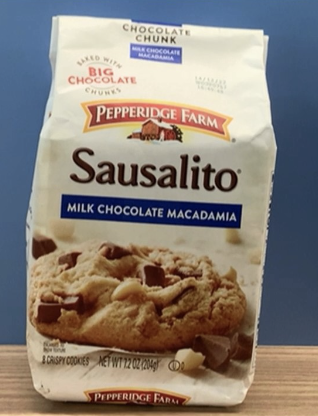cookies_200g-299g: (53, 97, 244, 376)
